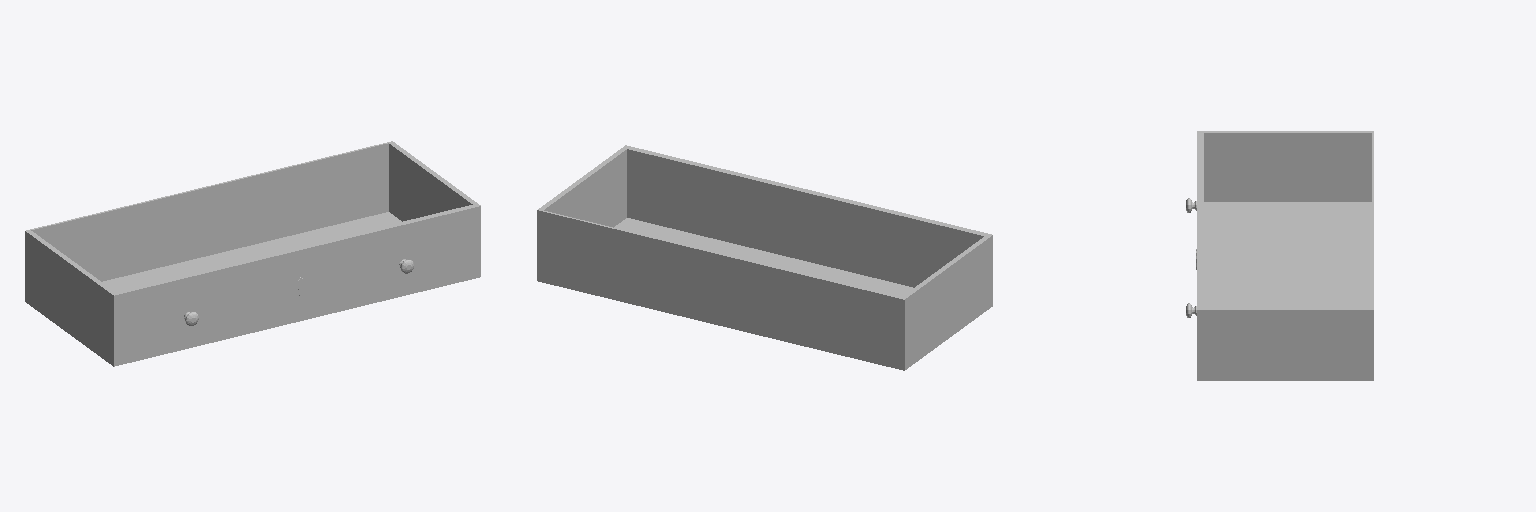
File: DrawerThird.obj
3 views of the same model, side by side, from view 1: azimuth 30°, elevation 25°; view 2: azimuth 150°, elevation 25°; view 3: azimuth 270°, elevation 25° (orthographic).
Parts seen in each view (by area): view 1: Plane_007; view 2: Plane_007; view 3: Plane_007.
Part boxes in pixels (x1,y1,x2,y2): Plane_007: (25,141,480,366); Plane_007: (537,145,992,370); Plane_007: (1186,131,1373,380).
Size of the model in its own units: 1.19 by 0.2199 by 0.5283.